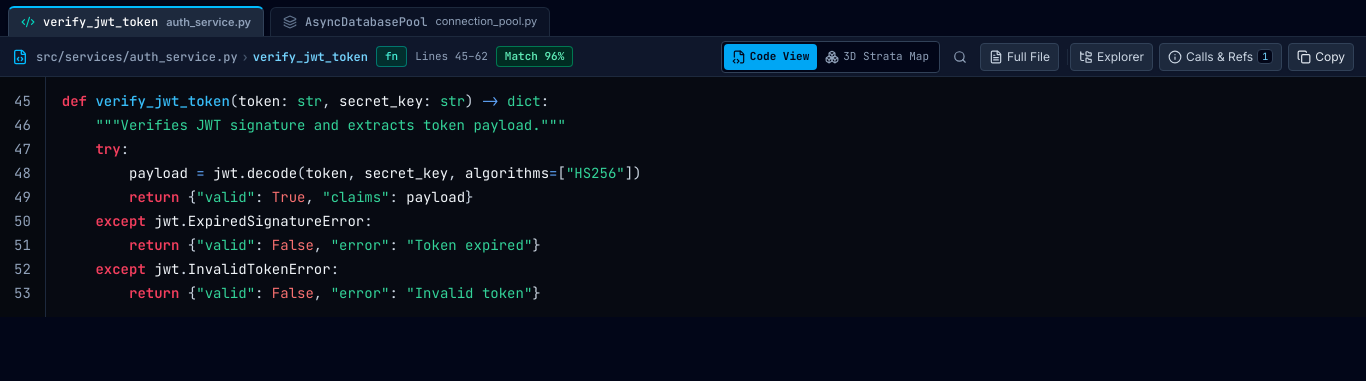
Scenario: 3D Strata Code Dependency Model UI Integration Suite › 2. CodeViewerContainer View Switching & Rendering › switches back to code view when clicking Code View toggle button
The width and height of the screenshot is (1366, 381).
// Switch to strata
Click the button with test id "view-mode-strata-btn": click(877, 56) top-left (817, 44), bottom-right (937, 70)
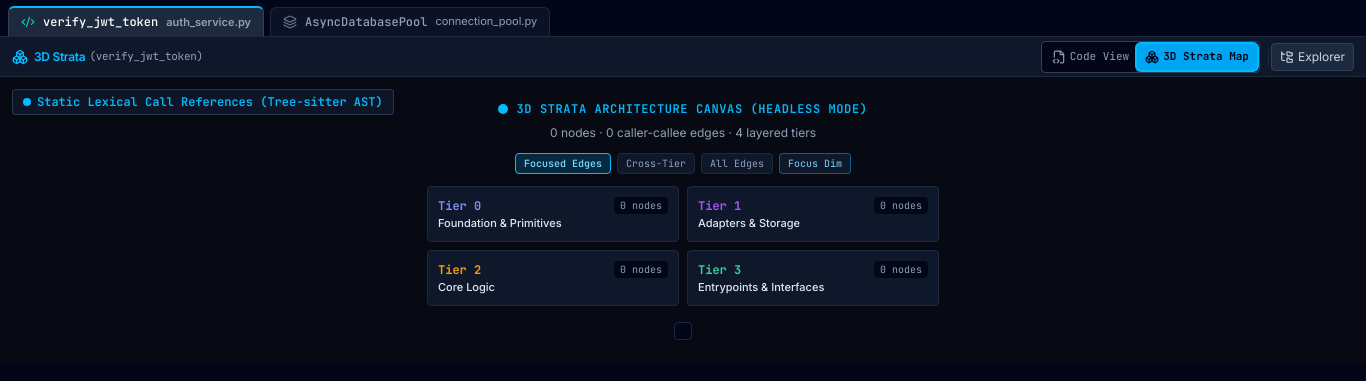
Result: the element with test id "strata-canvas" is shown
// Switch back to code
Click the button with test id "view-mode-code-btn": click(1090, 56) top-left (1044, 44), bottom-right (1137, 70)
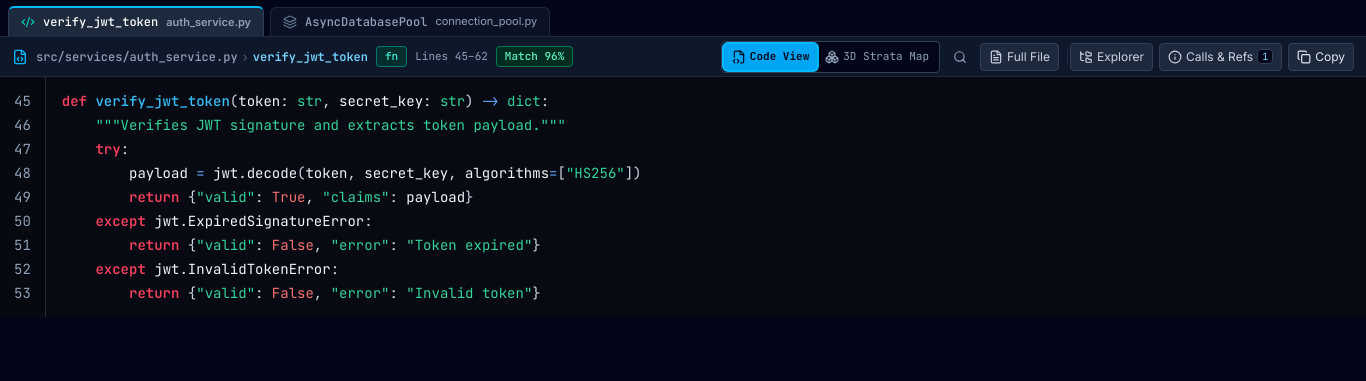
Result: the element with test id "code-display" is shown
